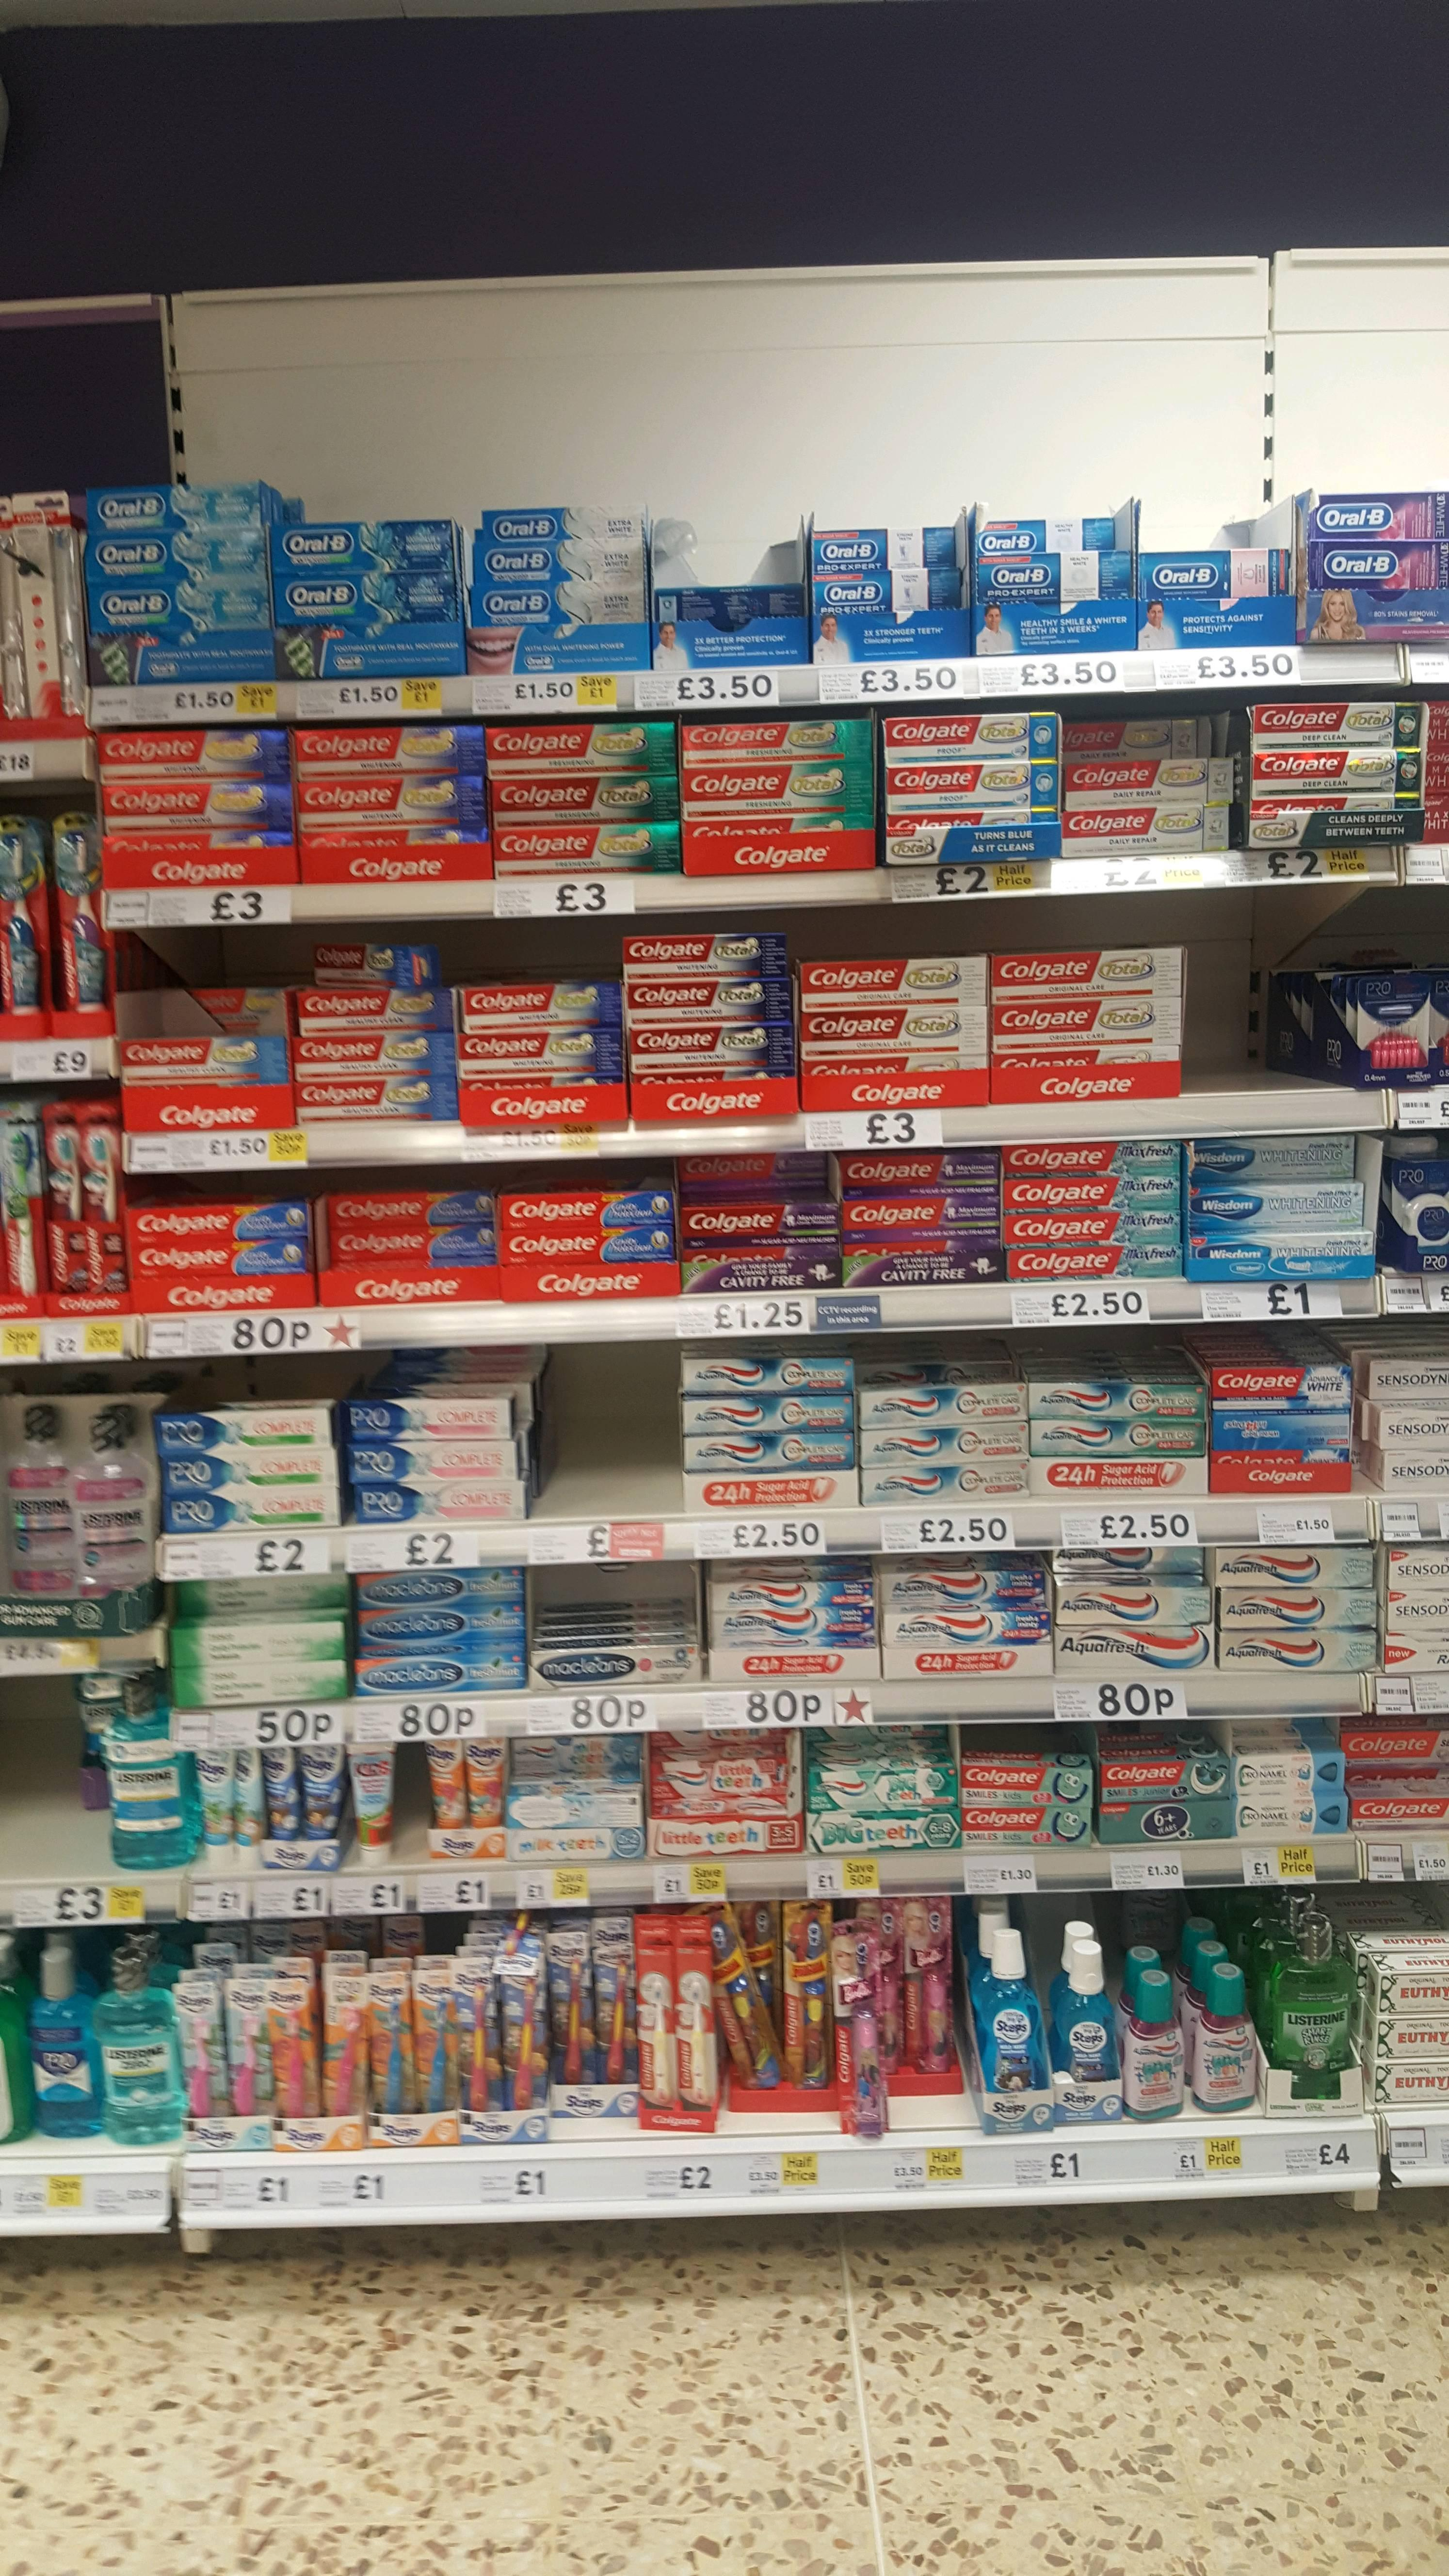empty: (536, 1368, 674, 1520), (1191, 955, 1329, 1090), (0, 1721, 108, 1870)
